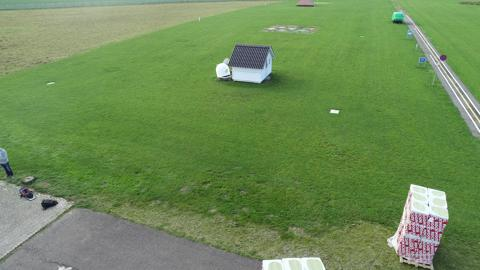RockwoolPallet: (263, 258, 326, 269)
